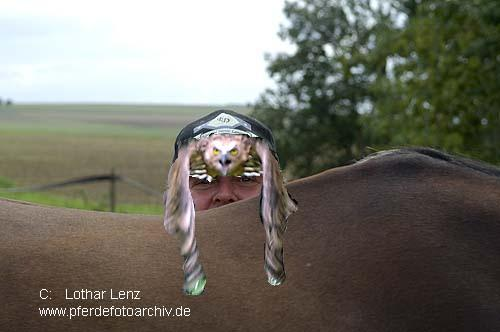tampered: (164, 134, 298, 295)
